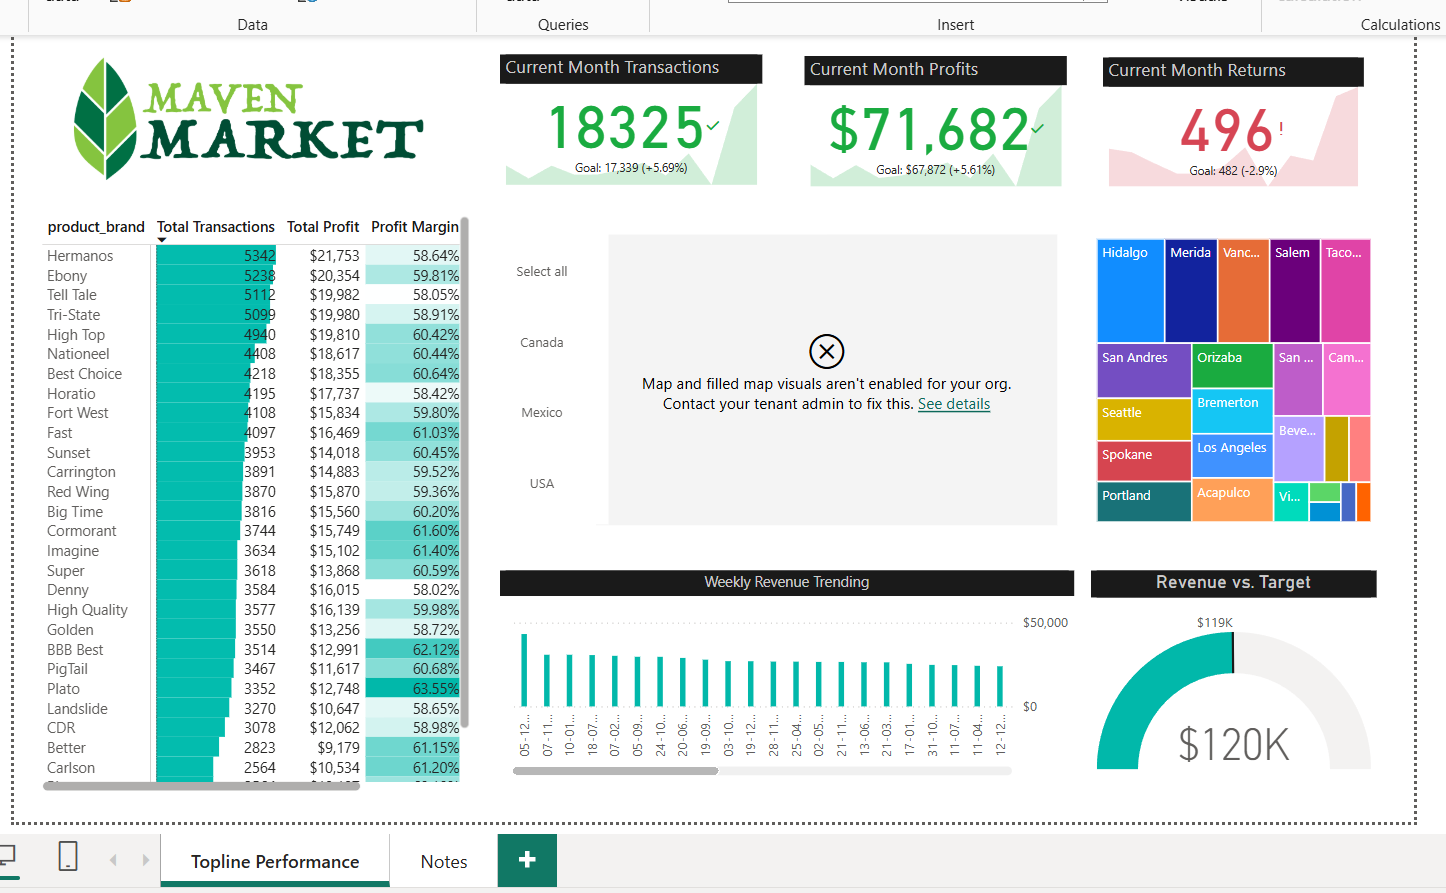

This screenshot's page, from the dashboard's own definition file:
{"tool":"powerbi","page":{"name":"Topline Performance","canvas":[1280,720],"ordinal":0},"visuals":[{"type":"image","box":[40,7,346,139],"z":0},{"type":"pivotTable","fields":{"Rows":["Products.product_brand"],"Values":["Measure Table.Total Transactions","Measure Table.Total Profit","Measure Table.Profit Margin","Measure Table.Return Rate"]},"box":[20,161,401,536],"z":1000},{"type":"kpi","title":"Current Month Transactions","fields":{"Indicator":["Measure Table.Total Transactions"],"TrendLine":["Calendar.Start of Month"],"Goal":["Measure Table.Last Month Transactions"]},"box":[445,18,240,124],"z":2000},{"type":"kpi","title":"Current Month Profits","fields":{"TrendLine":["Calendar.Start of Month"],"Indicator":["Measure Table.Total Profit"],"Goal":["Measure Table.Last Month Profit"]},"box":[722.9,18.6,240,124.3],"z":3000},{"type":"kpi","title":"Current Month Returns","fields":{"TrendLine":["Calendar.Start of Month"],"Indicator":["Measure Table.Total Returns"],"Goal":["Measure Table.Last Month Returns"]},"box":[995.7,20,238.6,122.9],"z":4000},{"type":"map","fields":{"Category":["Stores.store_city"],"Size":["Measure Table.Total Transactions"]},"box":[532,182,422,266],"z":5000},{"type":"slicer","fields":{"Values":["Stores.store_country"]},"box":[420,178,124.3,269],"z":6000},{"type":"treemap","fields":{"Group":["Stores.store_country","Stores.store_state","Stores.store_city"],"Values":["Measure Table.Total Transactions"]},"box":[985.7,181.4,261,269],"z":7000},{"type":"columnChart","title":"Weekly Revenue Trending","fields":{"Category":["Calendar.Start of Week"],"Y":["Measure Table.Total Revenue"]},"box":[445,490,525,192],"z":8000},{"type":"gauge","title":"Revenue vs. Target","fields":{"Y":["Measure Table.Total Revenue"],"TargetValue":["Measure Table.Revenue Target"]},"box":[986,490,261,192],"z":9000}]}

Visuals, with their boxes on the page's 1280x720 design canvas (x1, y1, x2, y2). These are canvas units, not pixel positions in the 1446x893 screenshot, which may show the page scaled, cropped or inside an application window:
image: [40,7,386,146]
pivotTable - Products.product_brand x Measure Table.Total Transactions: [20,161,421,697]
"Current Month Transactions" kpi: [445,18,685,142]
"Current Month Profits" kpi: [723,19,963,143]
"Current Month Returns" kpi: [996,20,1234,143]
map - Stores.store_city x Measure Table.Total Transactions: [532,182,954,448]
slicer - Stores.store_country: [420,178,544,447]
treemap - Stores.store_country x Stores.store_state: [986,181,1247,450]
"Weekly Revenue Trending" columnChart: [445,490,970,682]
"Revenue vs. Target" gauge: [986,490,1247,682]
